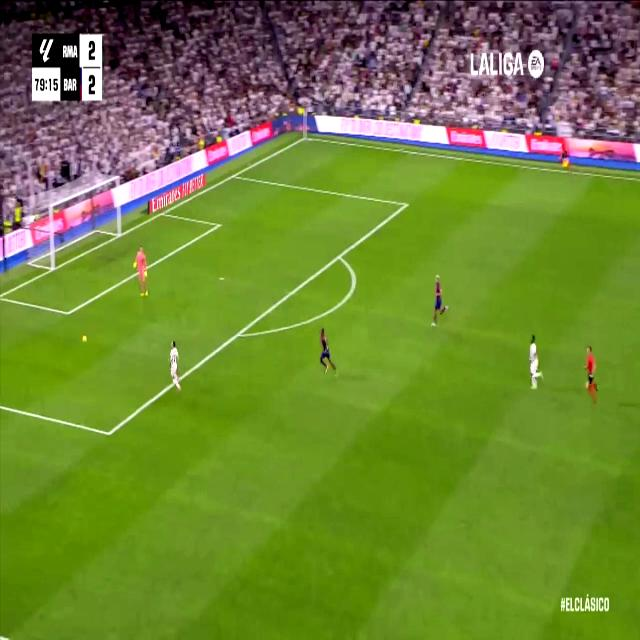bigarea_bottom_inner: (104, 421, 114, 446)
bigarea_top_inner: (402, 196, 409, 213)
bigarea_top_outter: (230, 169, 237, 181)
bottom_arc_area_intersection: (233, 322, 245, 346)
corner: (300, 131, 310, 143)
smallarea_top_inner: (216, 218, 222, 231)
top_arc_area_intersection: (334, 244, 344, 266)
